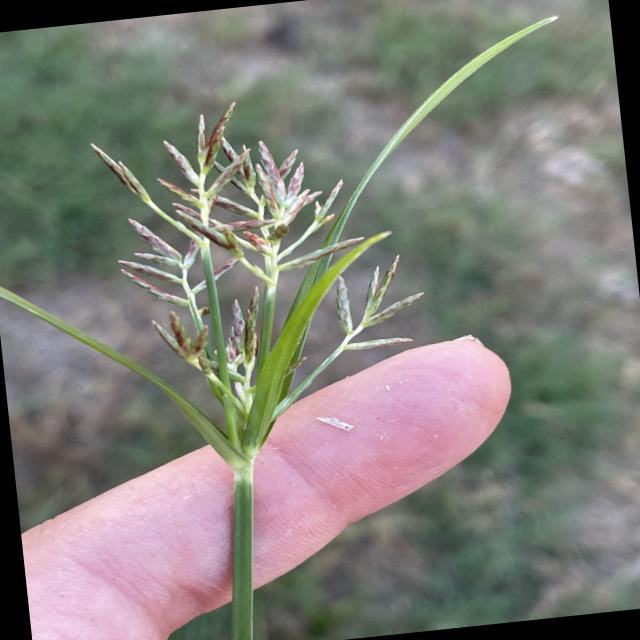cyperus: (66, 73, 452, 481)
